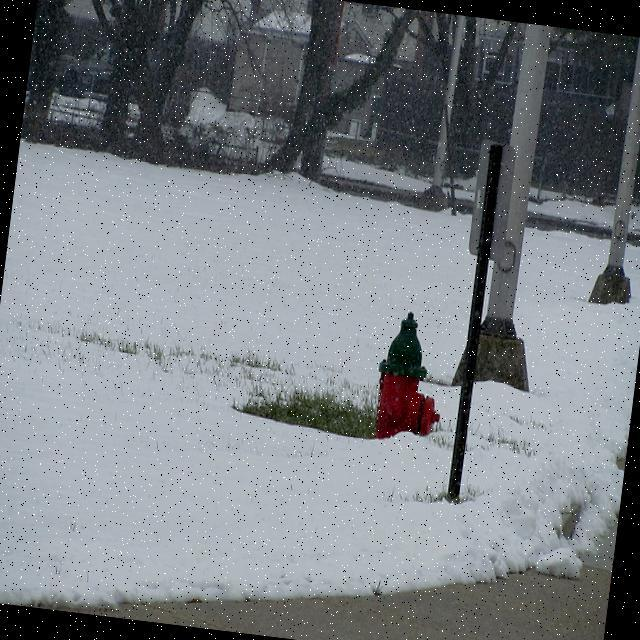fire_hydrant: (374, 308, 452, 444)
